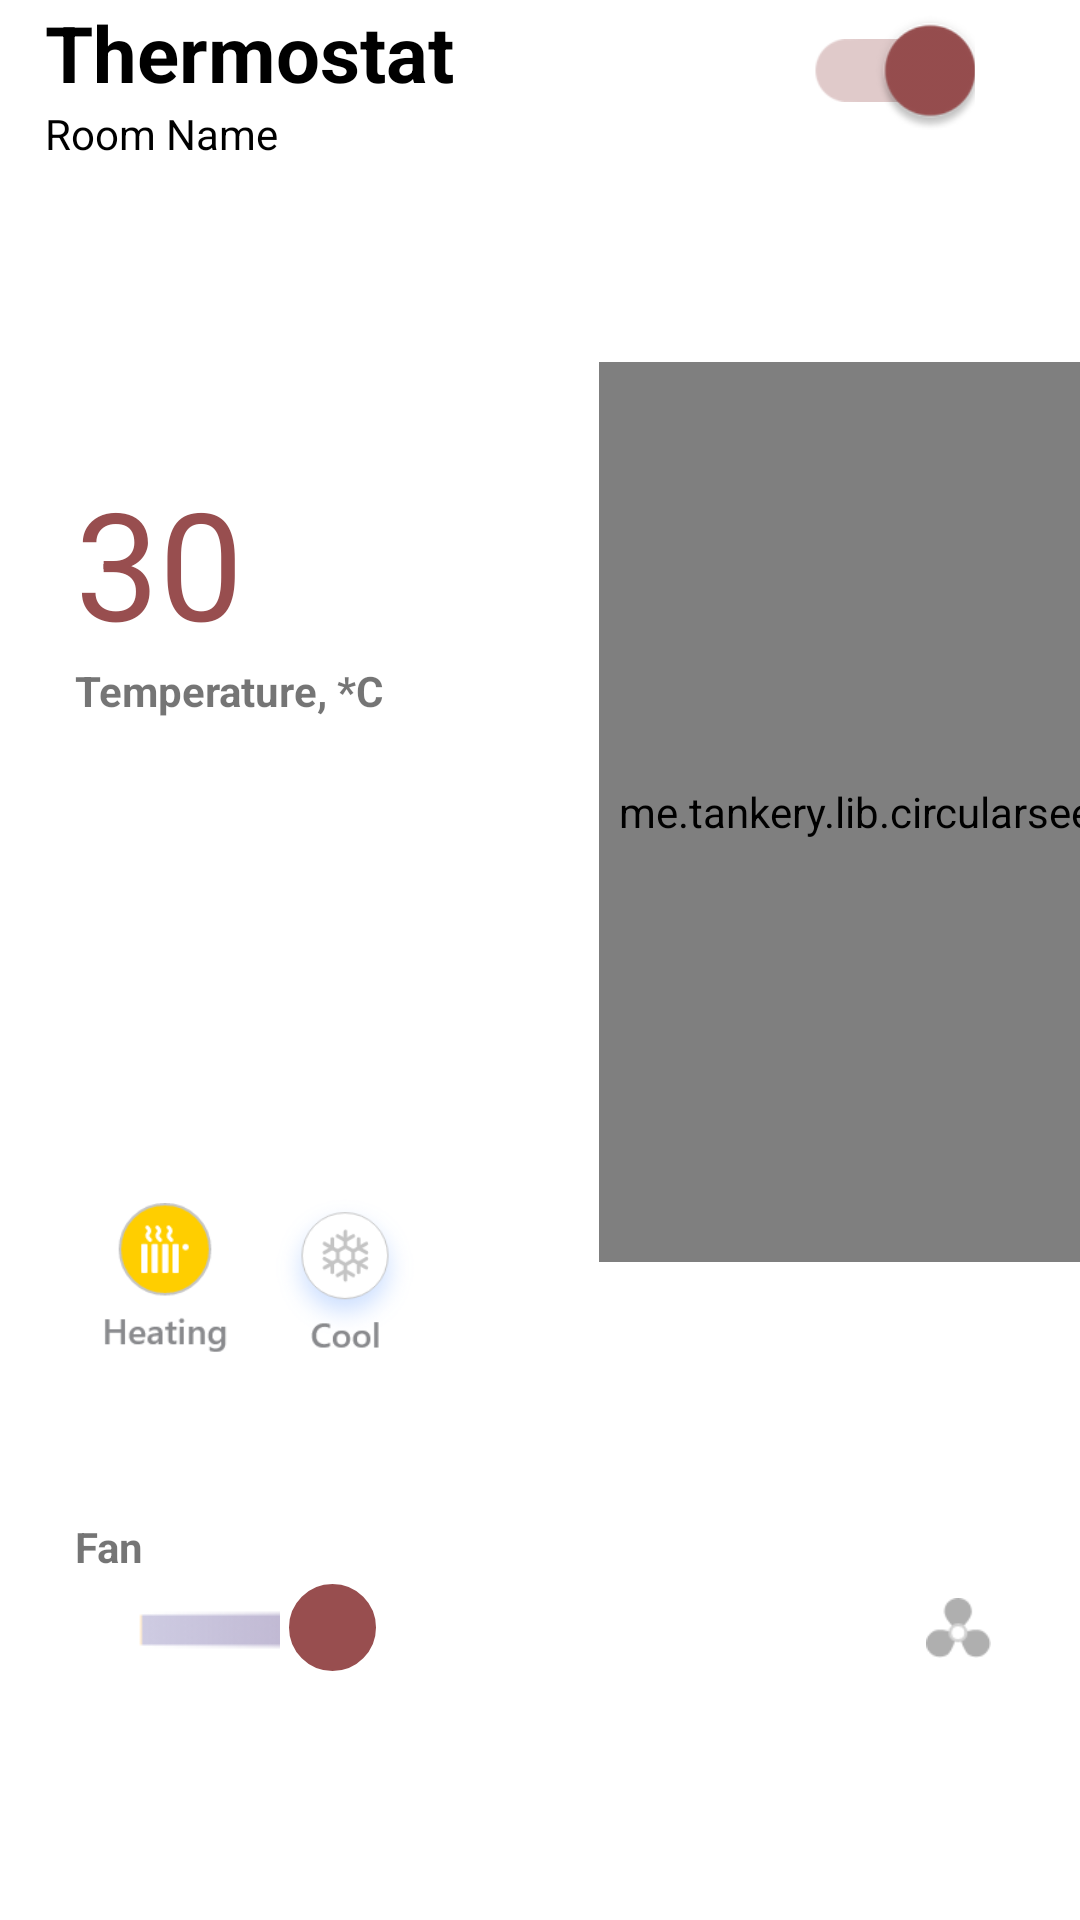

Named icons in this screenshot (1080px×1920px) and their centers, (x,y):
fan: (958,1627)
